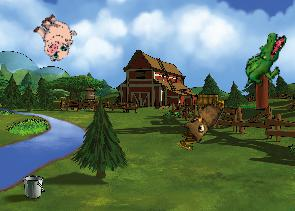crocodile: (242, 28, 287, 93)
owl: (179, 91, 225, 145)
pig: (26, 9, 82, 65)
